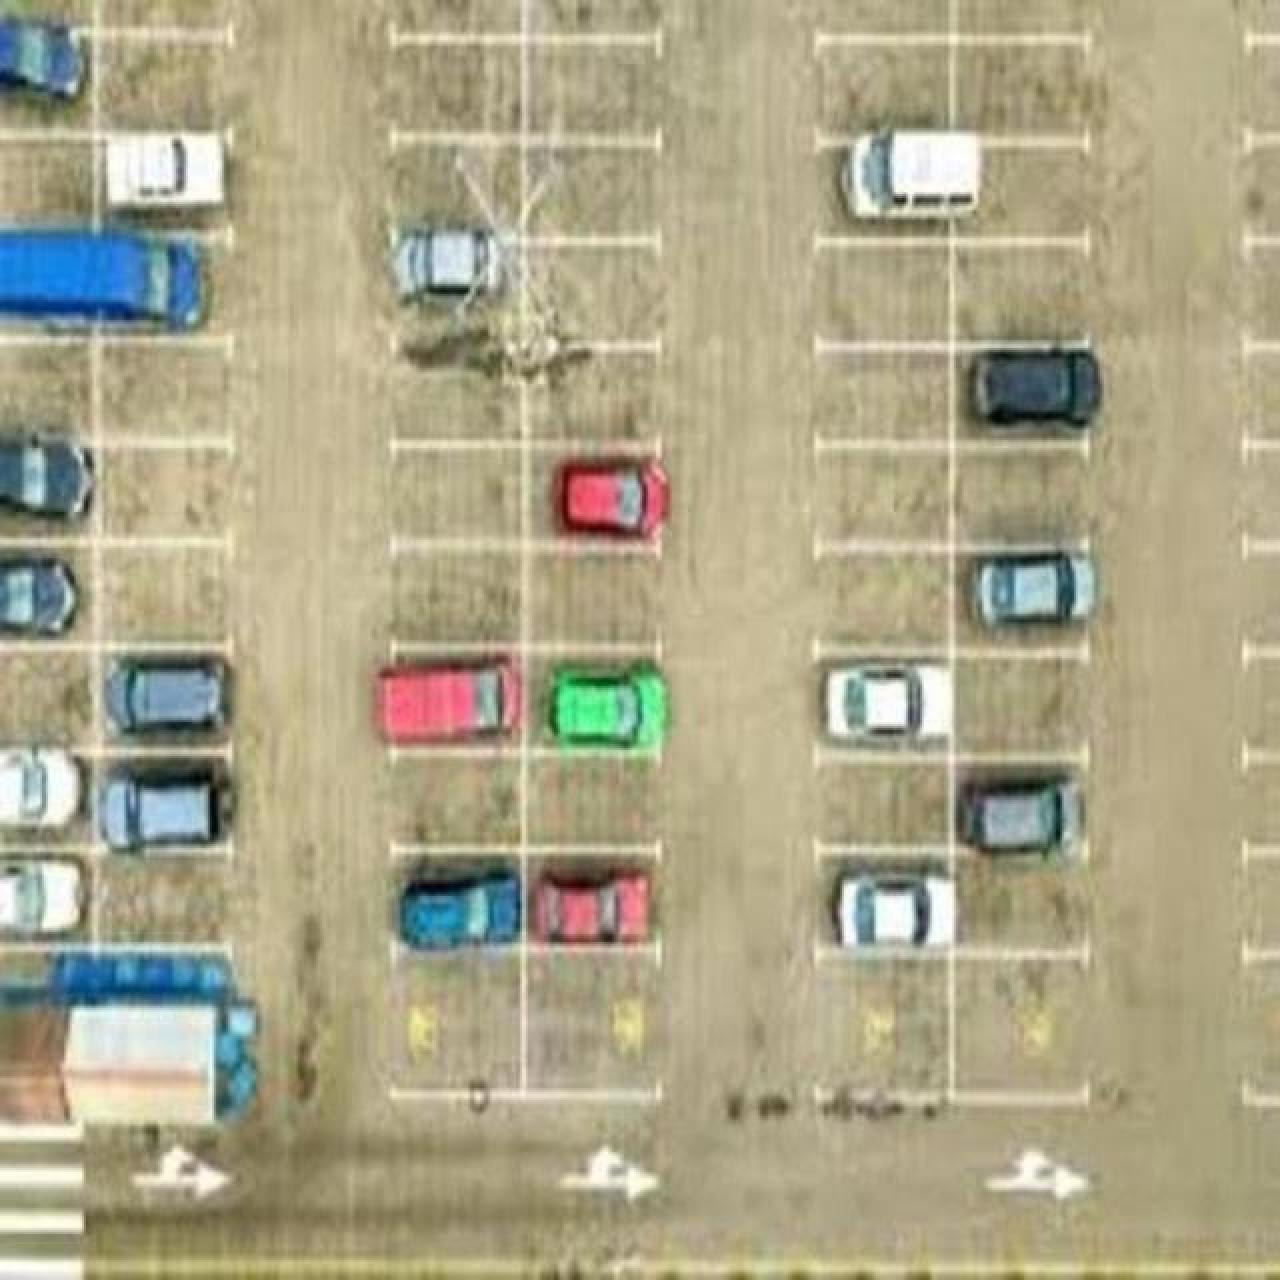car: (0, 226, 212, 334), (838, 126, 982, 222), (376, 654, 520, 744), (822, 660, 950, 746), (102, 126, 226, 212), (48, 948, 236, 1004), (100, 766, 224, 850), (970, 346, 1100, 426), (102, 654, 226, 734), (960, 776, 1080, 858), (388, 222, 504, 306), (398, 870, 520, 948), (550, 672, 673, 749), (972, 550, 1096, 626), (836, 872, 958, 948), (556, 456, 668, 538), (0, 426, 94, 520), (532, 868, 650, 942), (0, 14, 86, 100), (0, 742, 84, 830), (0, 854, 88, 938), (0, 552, 78, 636)
